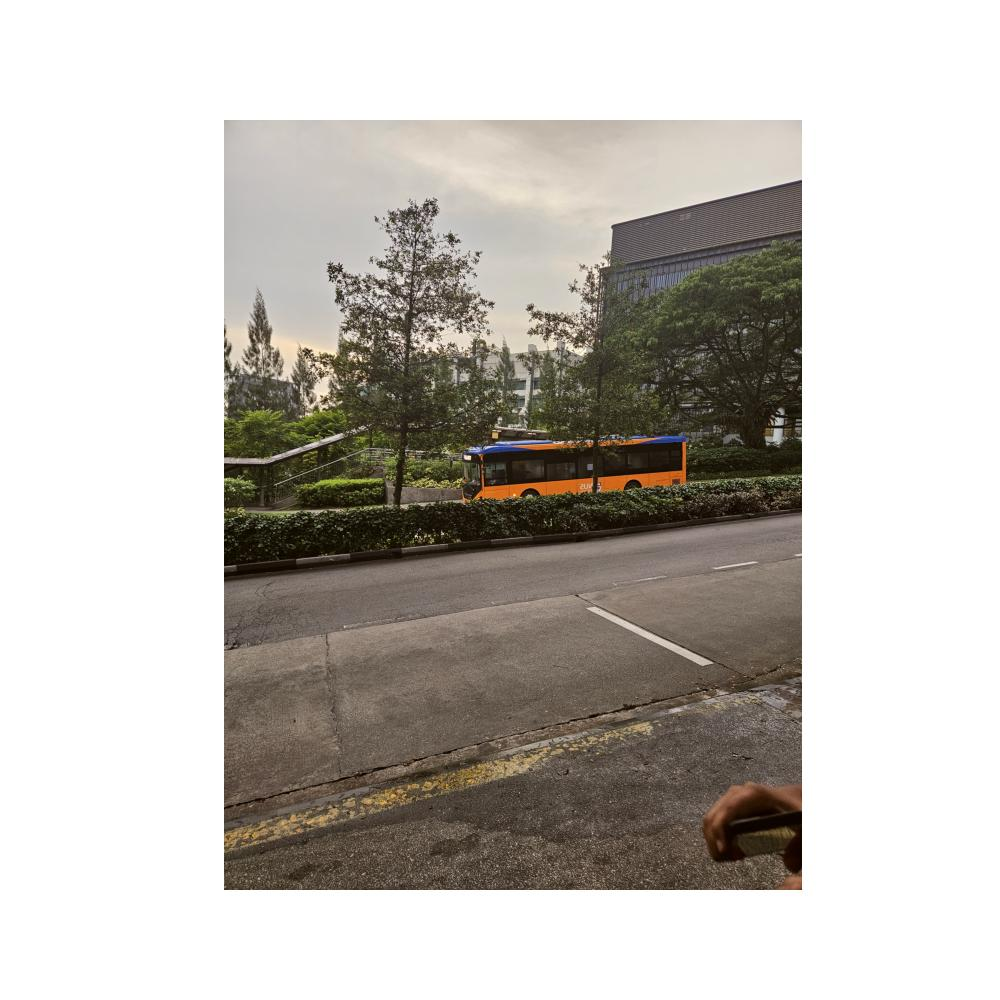bus: (458, 428, 689, 514)
